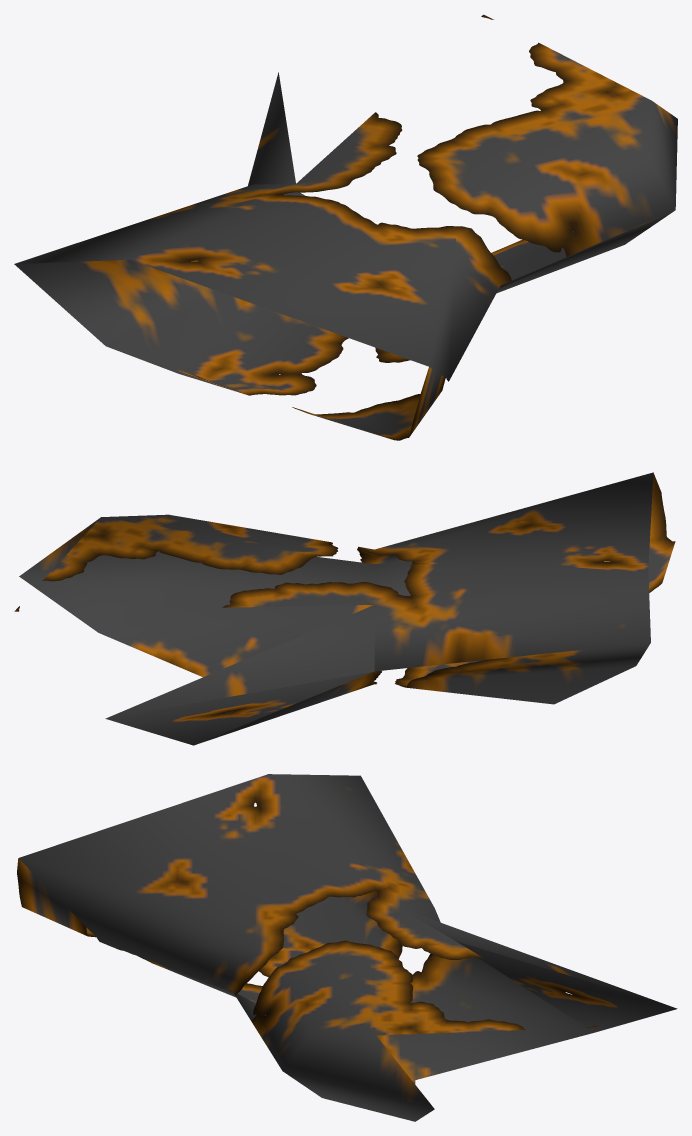
File: DefaultChunk002.fbx
3 views of the same model, one above another, from view 1: azimuth 30°, elevation 25°; view 2: azimuth 150°, elevation 25°; view 3: azimuth 270°, elevation 25° (orthographic). The views are drawn at different scales.
Parts seen in each view (by area): view 1: chunk002; view 2: chunk002; view 3: chunk002.
Boxes of the visible parts, left/top/right/bottom form: chunk002: left=14, top=14, right=677, bottom=440; chunk002: left=14, top=472, right=675, bottom=745; chunk002: left=17, top=774, right=677, bottom=1121.
Size of the model in its own units: 299 by 71.62 by 296.
1 material, 1 textured.
